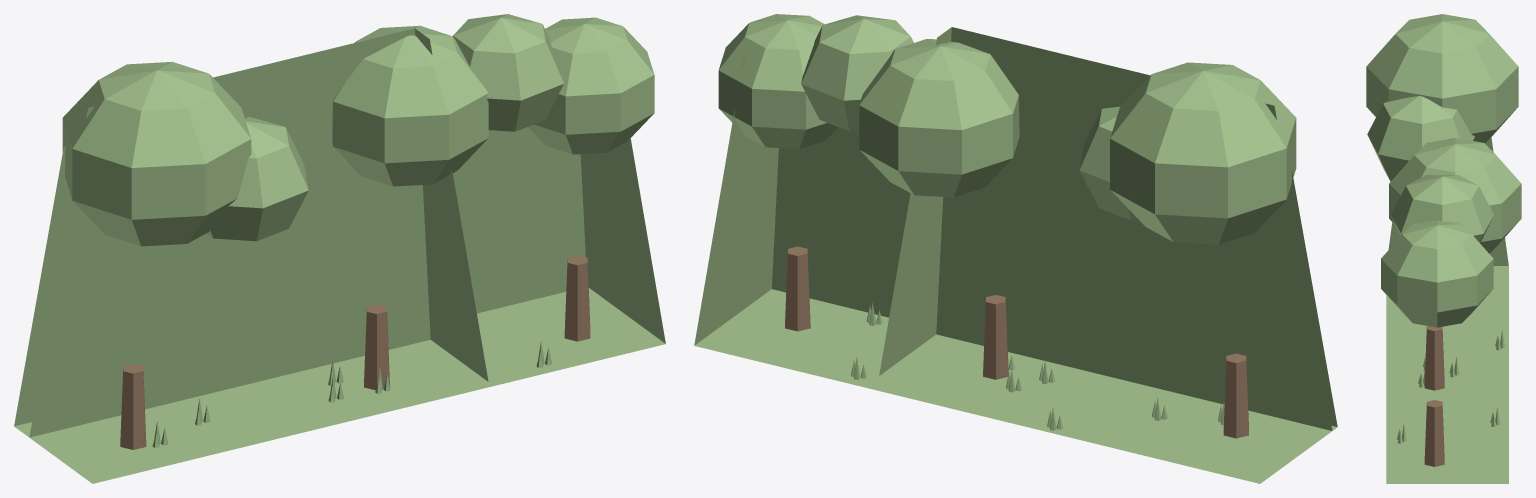
Rendered from hot-air-balloon-festival-hedgerow-section-6ab222ad__38491.glb.
The picture shows the model from 3 angles, left to right: view 1: azimuth 30°, elevation 25°; view 2: azimuth 150°, elevation 25°; view 3: azimuth 270°, elevation 25°; orthographic projection. The views are drawn at different scales.
Parts seen in each view (by area): view 1: hedgerow-section-grass, hedgerow-section-leather; view 2: hedgerow-section-grass, hedgerow-section-leather; view 3: hedgerow-section-grass, hedgerow-section-leather.
Part boxes in pixels (x1=…): hedgerow-section-grass: x1=14, y1=14, x2=665, y2=483; hedgerow-section-leather: x1=120, y1=255, x2=590, y2=449; hedgerow-section-grass: x1=694, y1=14, x2=1337, y2=483; hedgerow-section-leather: x1=785, y1=246, x2=1248, y2=438; hedgerow-section-grass: x1=1366, y1=14, x2=1521, y2=483; hedgerow-section-leather: x1=1424, y1=326, x2=1444, y2=466.
Size of the model in its own units: 4.1 by 2.42 by 1.2.
